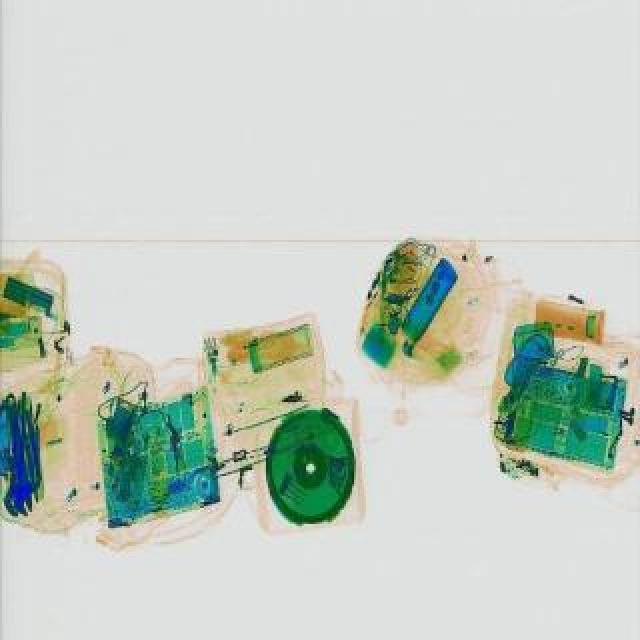scissors: (2, 390, 34, 512)
